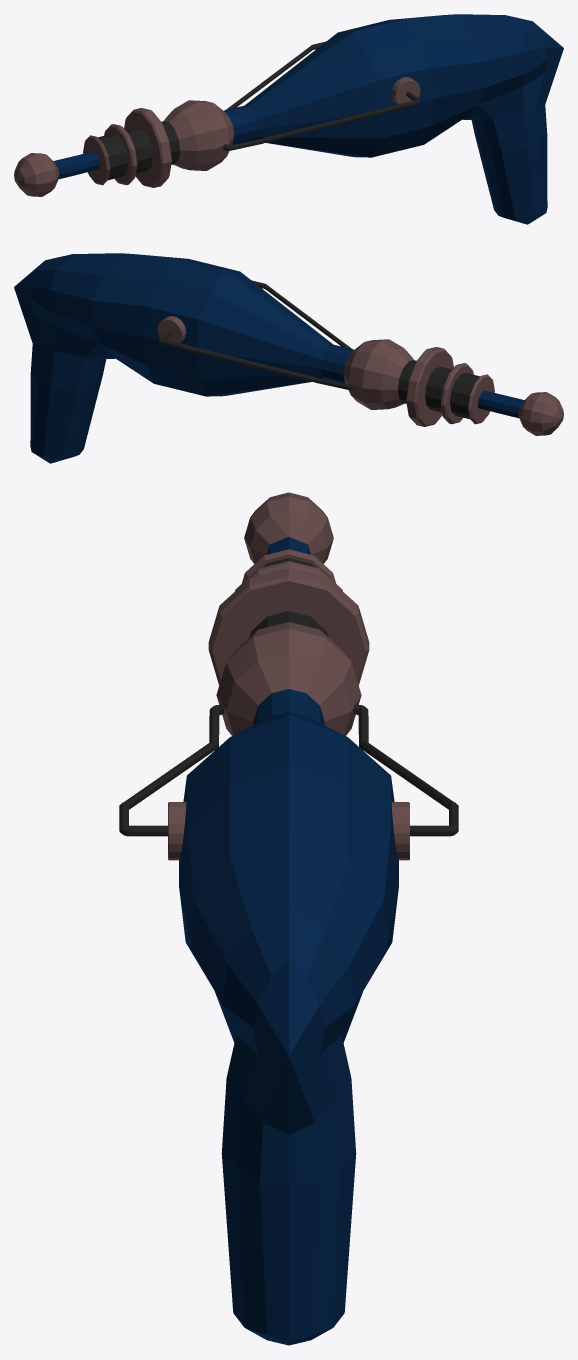
File: LaserGun 2.fbx
3 renders of one model, top to bottom at view 1: azimuth 30°, elevation 25°; view 2: azimuth 150°, elevation 25°; view 3: azimuth 270°, elevation 25°, orthographic. The views are drawn at different scales.
Visible parts, largest first — view 1: LaserGun; view 2: LaserGun; view 3: LaserGun.
Part boxes in pixels (bbox=[...]): LaserGun: bbox=[14, 14, 563, 224]; LaserGun: bbox=[14, 253, 563, 463]; LaserGun: bbox=[119, 492, 458, 1345].
Size of the model in its own units: 908 by 369 by 244.
